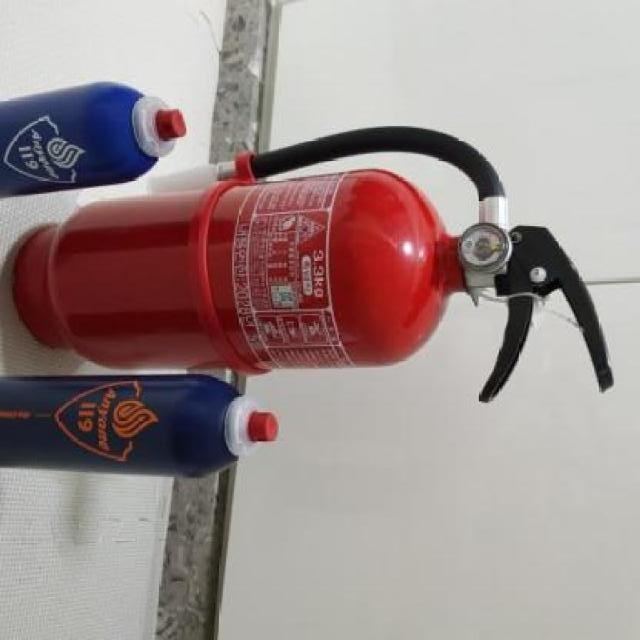fire extinguisher: (13, 125, 615, 403)
